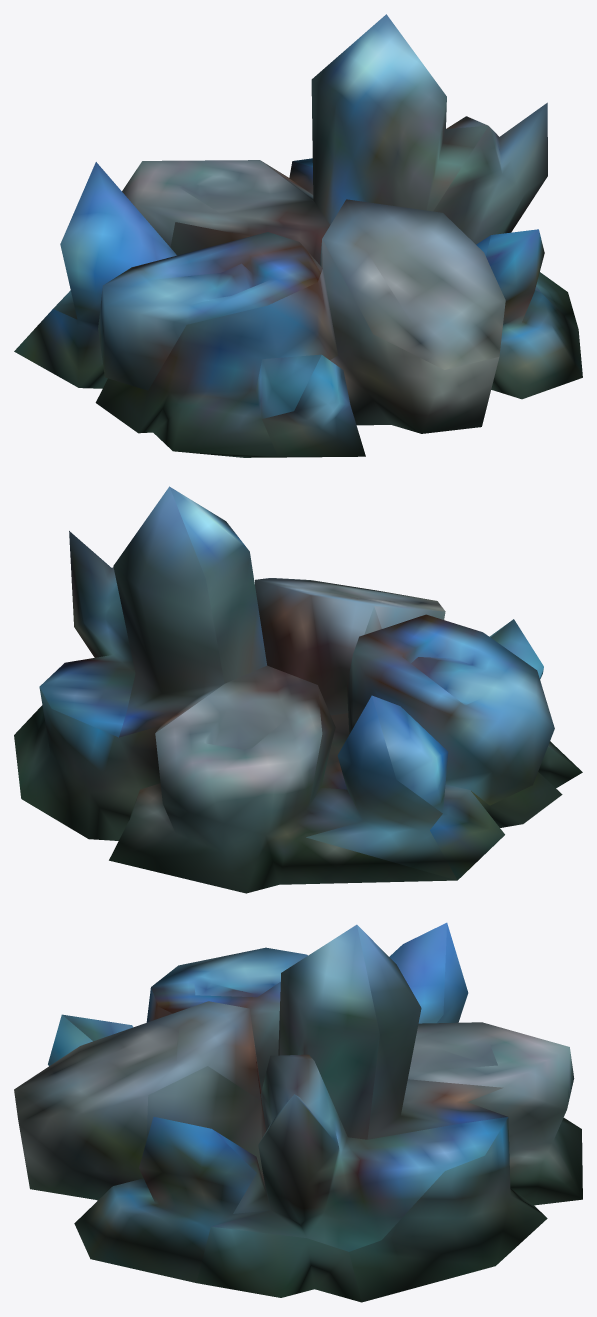
The model's file is Adorno_Delante_Golem.glb.
The picture shows the model from 3 angles, top to bottom: view 1: azimuth 30°, elevation 25°; view 2: azimuth 150°, elevation 25°; view 3: azimuth 270°, elevation 25°; orthographic projection. The views are drawn at different scales.
Parts seen in each view (by area): view 1: Adorno Delante Golem; view 2: Adorno Delante Golem; view 3: Adorno Delante Golem.
Boxes of the visible parts, bbox=[...] form: Adorno Delante Golem: bbox=[14, 14, 582, 457]; Adorno Delante Golem: bbox=[14, 486, 582, 893]; Adorno Delante Golem: bbox=[14, 922, 582, 1302].
Size of the model in its own units: 0.0693 by 0.0405 by 0.0673.
Materials: 1 (1 with a texture image).
